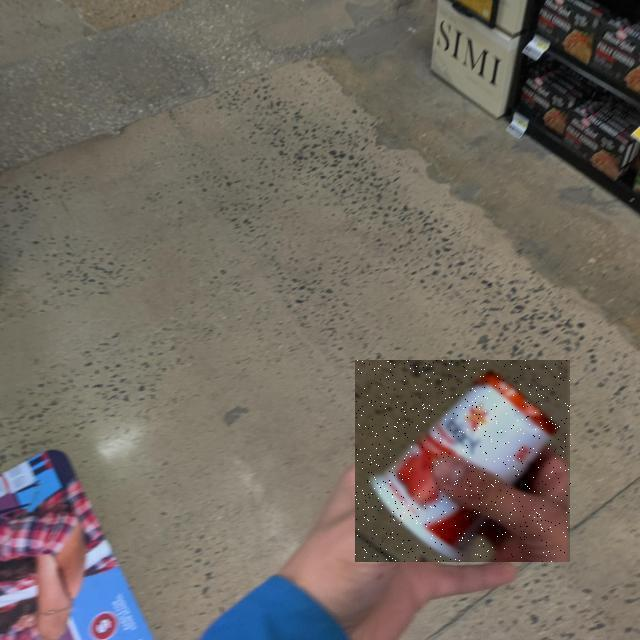Yoghurt: (356, 360, 572, 562)
